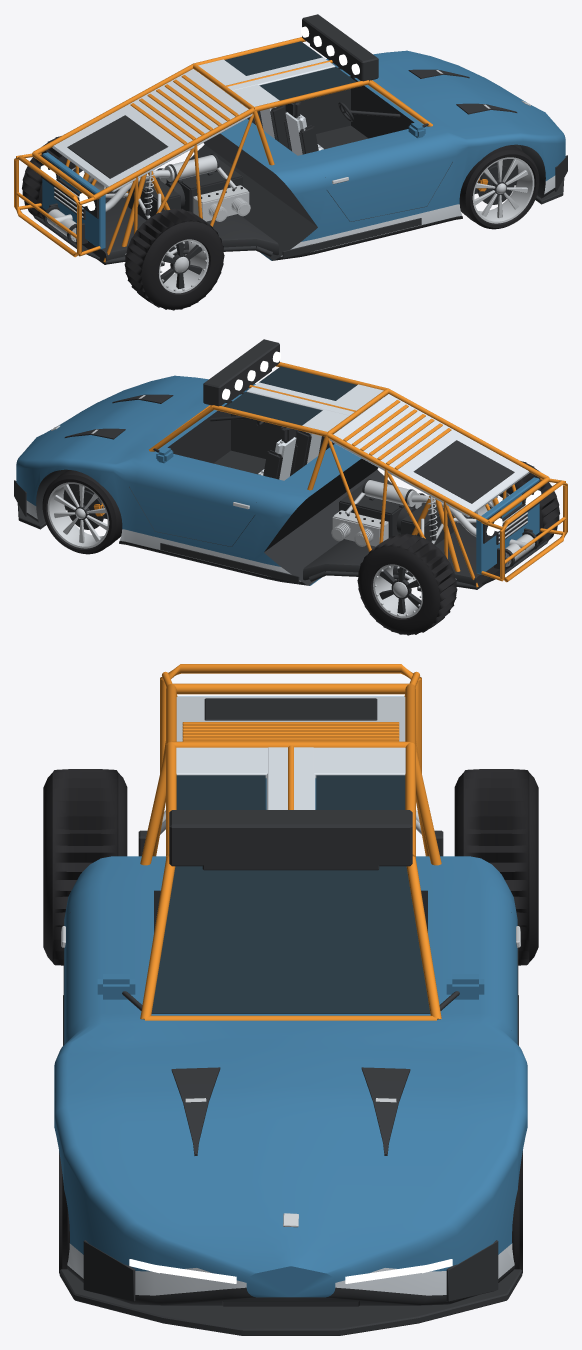
The model's file is knifeedge_blueprint.glb.
The picture shows the model from 3 angles, top to bottom: view 1: azimuth 30°, elevation 25°; view 2: azimuth 150°, elevation 25°; view 3: azimuth 270°, elevation 25°; orthographic projection. The views are drawn at different scales.
Parts seen in each view (by area): view 1: Body_Shell.001, Detail_Iron, Body_Deck.001, Wheel_Truck_Tire_-1.001, Body_CageRear.001, Detail_Secondary, Body_Floor.001, Body_CageRoof.001, Detail_Stripe, Wheel_Coupe_Tire_-1.001, Body_CageBumper.001, Body_TailPlate.001 (+15 smaller); view 2: Body_Shell.001, Detail_Iron, Body_Deck.001, Wheel_Truck_Tire_+1.001, Body_CageRear.001, Detail_Secondary, Body_Floor.001, Body_CageRoof.001, Detail_Stripe, Wheel_Coupe_Tire_+1.001, Body_CageBumper.001, Body_TailPlate.001 (+15 smaller); view 3: Body_Shell.001, Glass_Windshield.001, Detail_Iron, Body_CageRoof.001, Wheel_Truck_Tire_-1.001, Wheel_Truck_Tire_+1.001, Body_Splitter.001, Detail_Secondary, Body_CageRear.001, Detail_Stripe, Body_CageBumper.001, Glass_Roof_-1.001 (+6 smaller).
Boxes of the visible parts, x1,y1,x2,y2 form: Body_Shell.001: (189,50,565,260); Detail_Iron: (34,14,567,259); Body_Deck.001: (52,69,252,192); Wheel_Truck_Tire_-1.001: (124,208,224,310); Body_CageRear.001: (32,64,255,262); Detail_Secondary: (198,57,335,155); Body_Floor.001: (82,168,278,264); Body_CageRoof.001: (193,37,432,165); Detail_Stripe: (130,75,238,144); Wheel_Coupe_Tire_-1.001: (459,145,539,229); Body_CageBumper.001: (14,153,100,257); Body_TailPlate.001: (42,152,105,249); Body_Shell.001: (16,375,392,585); Detail_Iron: (14,339,547,584); Body_Deck.001: (329,394,529,517); Wheel_Truck_Tire_+1.001: (357,533,457,635); Body_CageRear.001: (326,389,549,587); Detail_Secondary: (246,382,383,480); Body_Floor.001: (303,493,499,589); Body_CageRoof.001: (149,362,388,490); Detail_Stripe: (343,400,451,469); Wheel_Coupe_Tire_+1.001: (42,470,122,554); Body_CageBumper.001: (481,478,567,582); Body_TailPlate.001: (476,477,539,574); Body_Shell.001: (54,856,527,1305); Glass_Windshield.001: (151,866,430,1013); Detail_Iron: (63,698,518,1306); Body_CageRoof.001: (140,741,441,1020); Wheel_Truck_Tire_-1.001: (43,769,127,965); Wheel_Truck_Tire_+1.001: (454,769,538,965); Body_Splitter.001: (59,1269,522,1335); Detail_Secondary: (176,747,405,809); Body_CageRear.001: (152,683,429,856); Detail_Stripe: (182,722,399,741); Body_CageBumper.001: (160,664,421,773); Glass_Roof_-1.001: (176,775,265,809).
Size of the model in its own units: 5.22 by 1.76 by 2.24.
